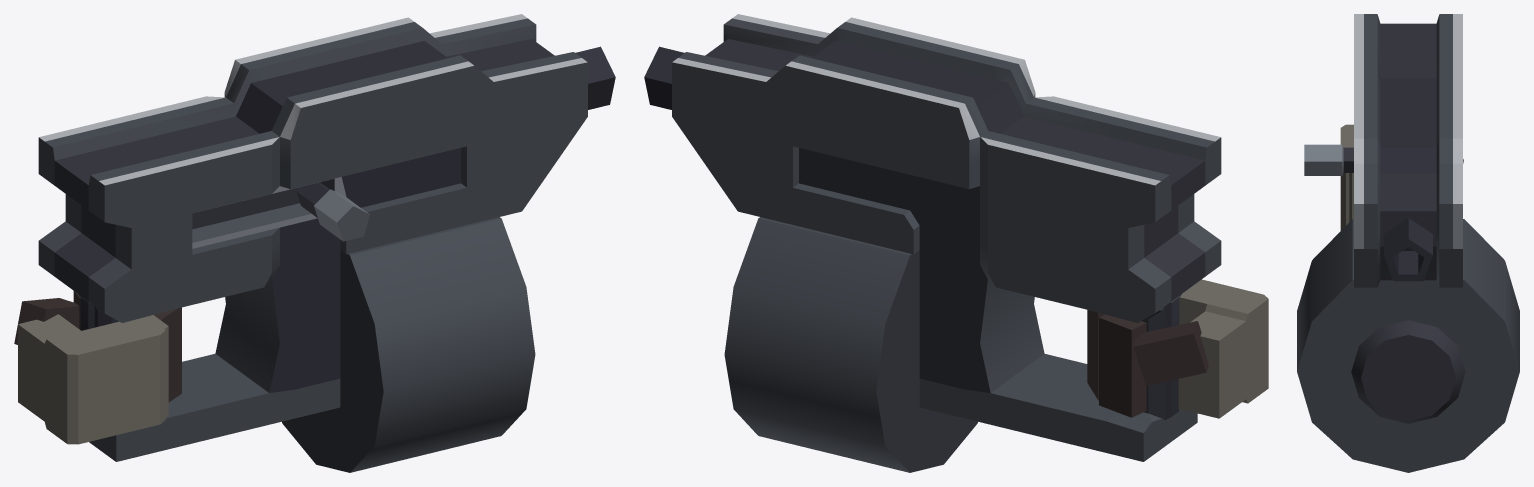
File: 机甲wep_001.fbx
The picture shows the model from 3 angles, left to right: view 1: azimuth 30°, elevation 25°; view 2: azimuth 150°, elevation 25°; view 3: azimuth 270°, elevation 25°; orthographic projection. The views are drawn at different scales.
Parts seen in each view (by area): view 1: 枪, 弹匣, 手; view 2: 枪, 弹匣, 手; view 3: 弹匣, 枪, 手.
Part boxes in pixels (x1,y1,x2,y2): 枪: [38, 14, 615, 461]; 弹匣: [282, 217, 535, 472]; 手: [14, 291, 181, 444]; 枪: [644, 14, 1221, 461]; 弹匣: [724, 217, 977, 472]; 手: [1087, 279, 1268, 418]; 弹匣: [1297, 219, 1519, 472]; 枪: [1304, 14, 1462, 287]; 手: [1340, 124, 1463, 230].
Bounding box in the file's own units: 181 × 118 × 73.9.
Materials: 3 (3 with a texture image).
